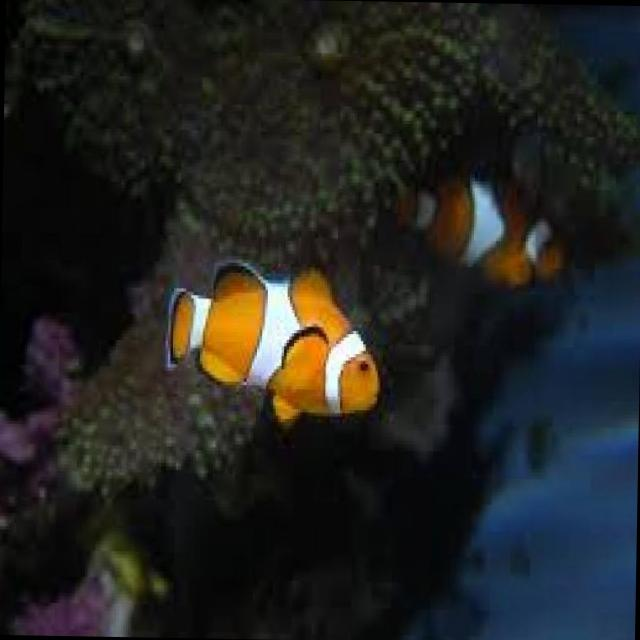ClownFish: (164, 259, 384, 424), (393, 168, 568, 290)
